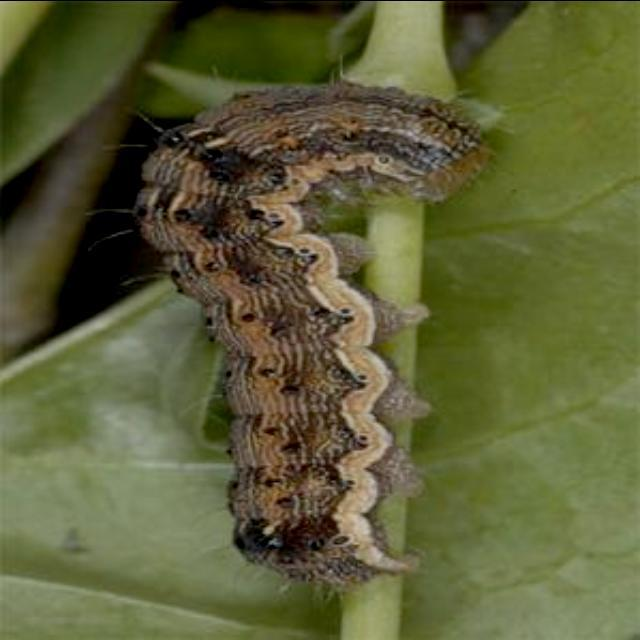Cotton bollworm: (100, 36, 528, 604)
